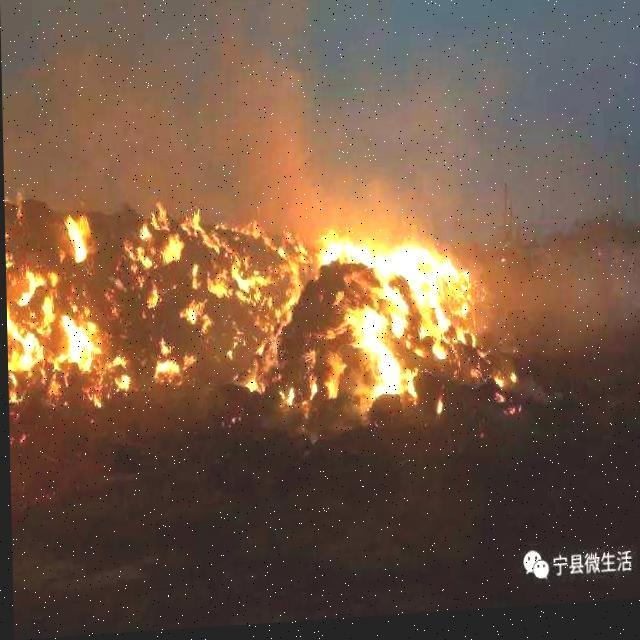Fire: (4, 173, 524, 470)
